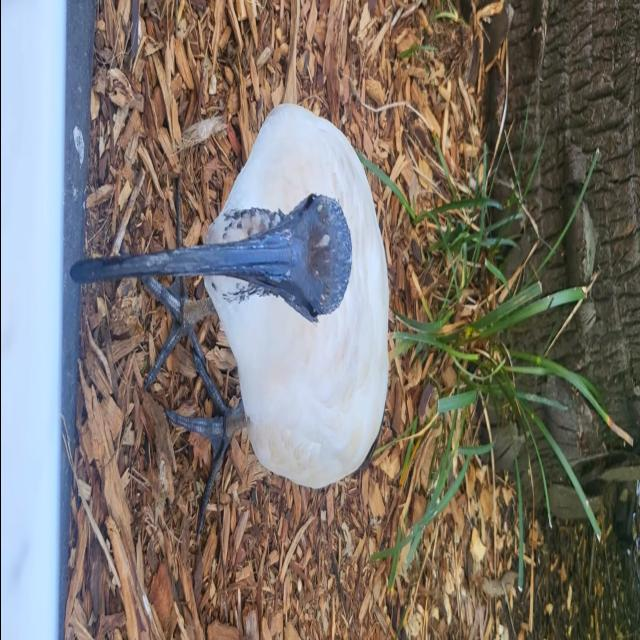Birds-Ibis: (66, 98, 393, 556)
